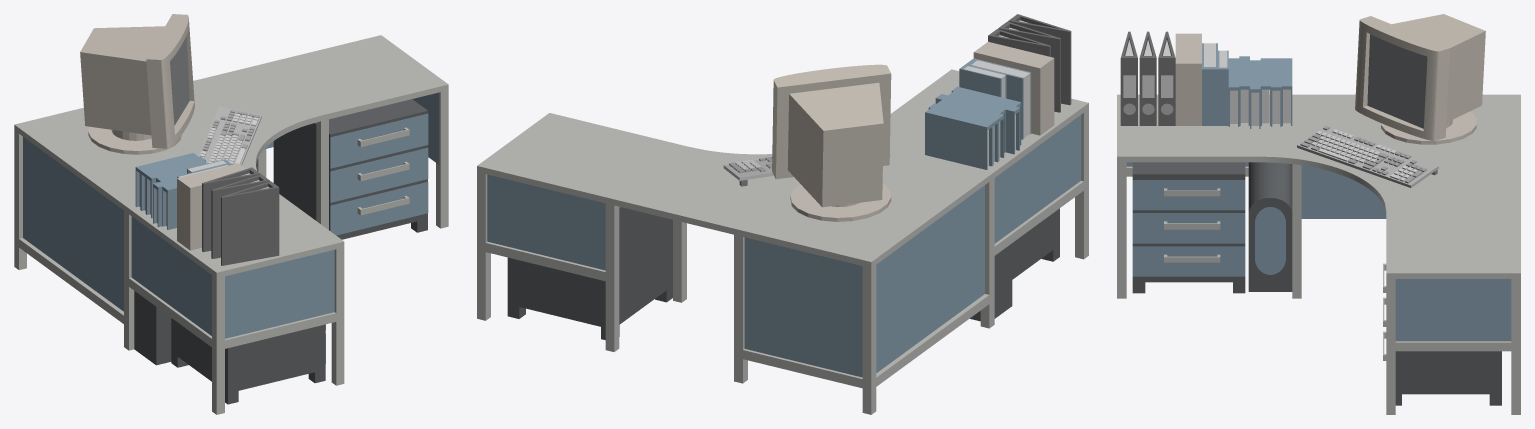
The model's file is EscritorioOficina3.glb.
3 views of the same model, side by side, from view 1: azimuth 30°, elevation 25°; view 2: azimuth 150°, elevation 25°; view 3: azimuth 270°, elevation 25° (orthographic). The views are drawn at different scales.
Visible parts, largest first — view 1: Mesh_Mesh_head_geo.001_lambert2SG.001; view 2: Mesh_Mesh_head_geo.001_lambert2SG.001; view 3: Mesh_Mesh_head_geo.001_lambert2SG.001.
Boxes of the visible parts, <box> form: Mesh_Mesh_head_geo.001_lambert2SG.001: <box>14,14,448,414</box>; Mesh_Mesh_head_geo.001_lambert2SG.001: <box>477,14,1088,414</box>; Mesh_Mesh_head_geo.001_lambert2SG.001: <box>1117,14,1520,414</box>.
Bounding box in the file's own units: 67.5 × 44 × 64.5.
